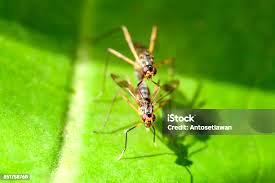Helopeltis-insect: (120, 27, 176, 80), (116, 82, 159, 128)
